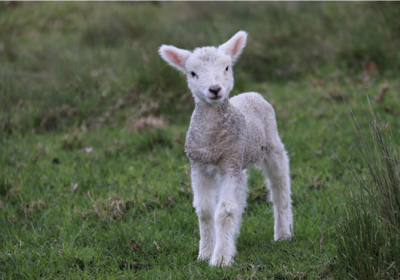koyun: (157, 29, 295, 267)
